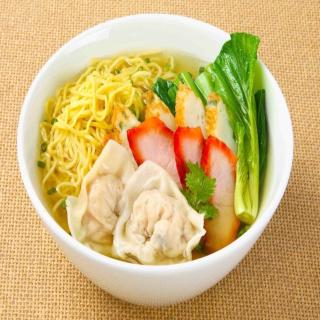carbs: (37, 61, 115, 185)
meat: (85, 168, 183, 267), (120, 101, 230, 163)
noodles: (40, 45, 262, 261)
veg: (232, 32, 263, 225), (192, 48, 230, 98), (186, 166, 214, 218), (156, 74, 177, 108)
